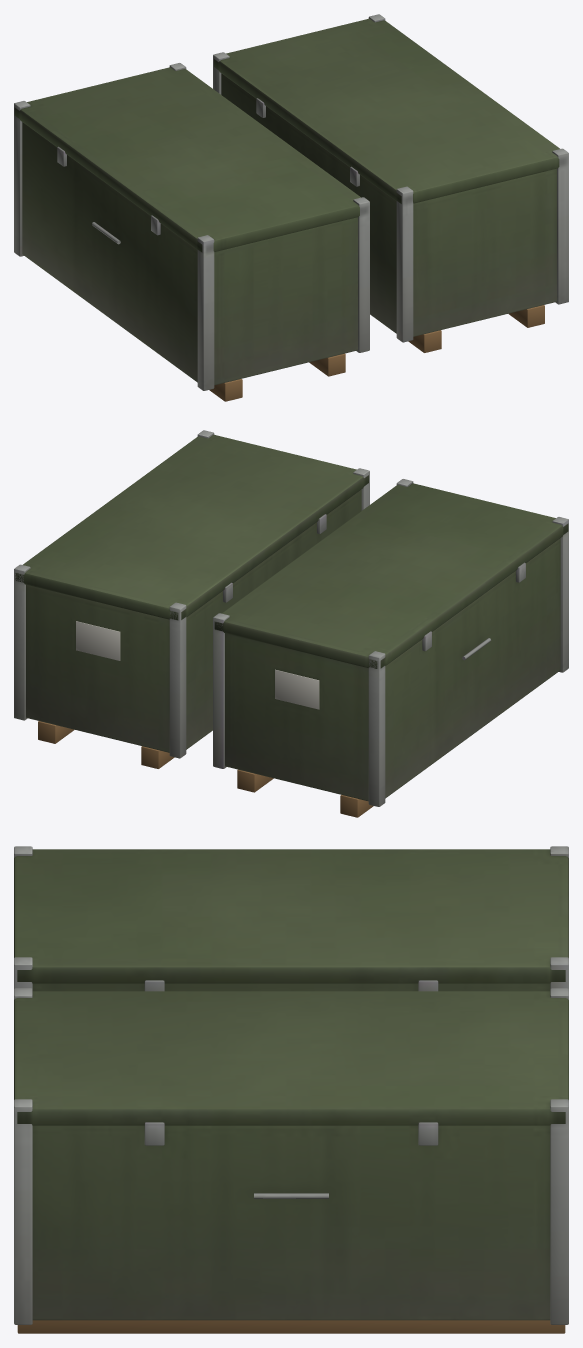
File: polarhaven-stowed.glb
3 renders of one model, top to bottom at view 1: azimuth 30°, elevation 25°; view 2: azimuth 150°, elevation 25°; view 3: azimuth 270°, elevation 25°, orthographic. The views are drawn at different scales.
Visible parts, largest first — view 1: POLARHAVEN_packed; view 2: POLARHAVEN_packed; view 3: POLARHAVEN_packed.
Boxes of the visible parts, <box> form: POLARHAVEN_packed: <box>14,14,568,401</box>; POLARHAVEN_packed: <box>14,430,568,817</box>; POLARHAVEN_packed: <box>14,846,568,1333</box>.
Size of the model in its own units: 2.53 by 1.08 by 2.23.
Materials: 4 (2 with a texture image).
